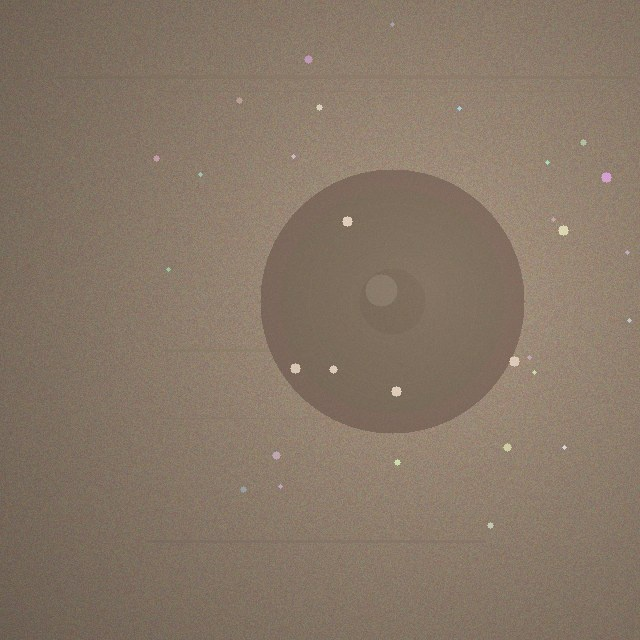overburn: (260, 169, 524, 433)
